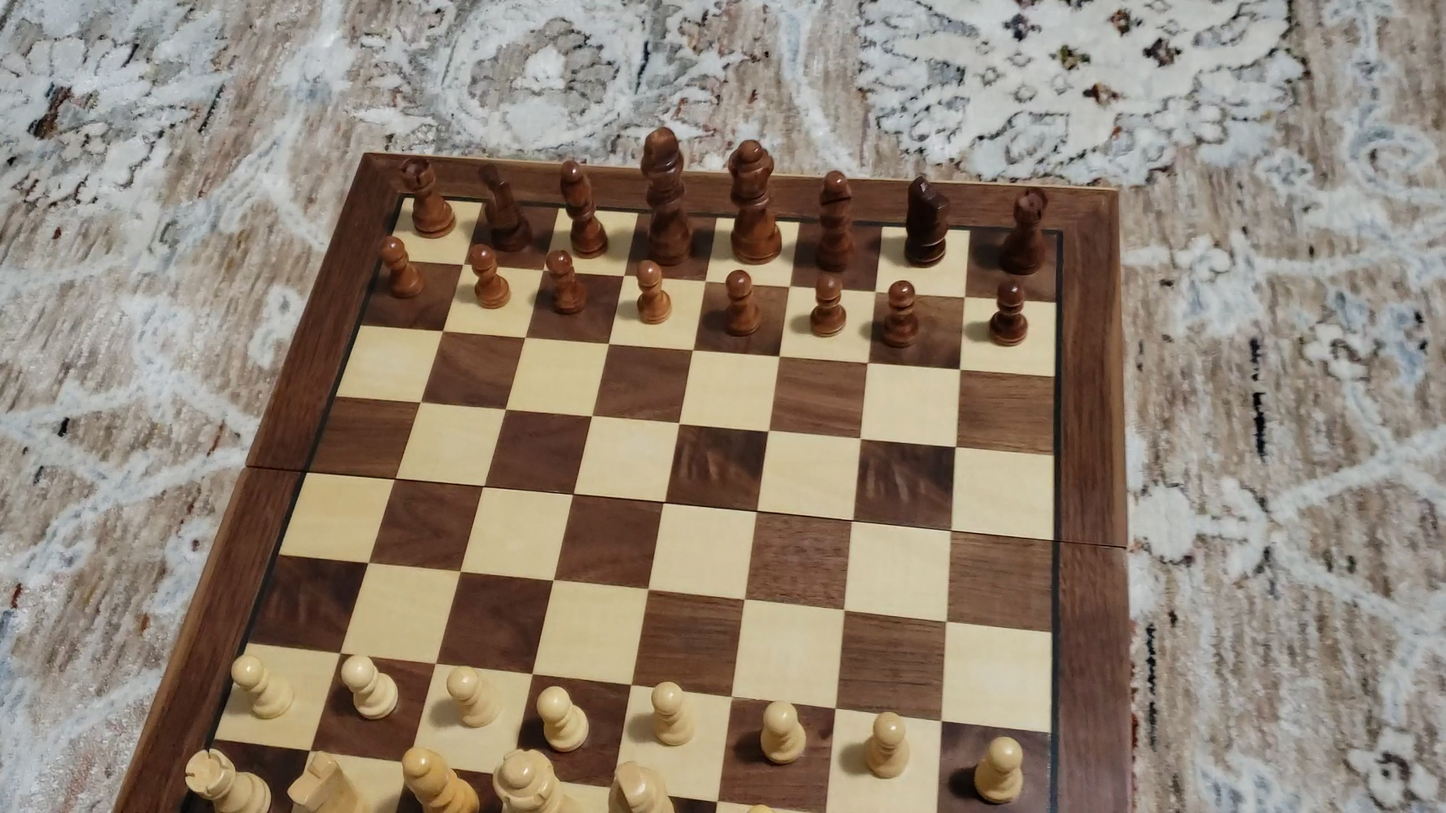black-bishop: (558, 156, 611, 259), (814, 167, 855, 277)
black-king: (639, 124, 692, 266)
black-knight: (478, 159, 533, 253), (902, 169, 951, 267)
black-pawn: (377, 233, 425, 301), (879, 277, 920, 351), (545, 246, 586, 317), (988, 278, 1029, 348), (633, 257, 673, 327), (721, 266, 759, 339), (809, 269, 848, 340), (469, 242, 509, 311)
black-queen: (726, 136, 779, 264)
black-rook: (997, 186, 1049, 276), (399, 155, 454, 238)
white-bishop: (398, 744, 478, 812)
white-king: (602, 757, 675, 813)
white-knight: (284, 748, 367, 812)
white-pawn: (225, 652, 299, 723), (967, 732, 1033, 810), (334, 651, 404, 723), (859, 707, 918, 783), (754, 697, 812, 770), (534, 683, 593, 754), (441, 662, 501, 731), (645, 677, 700, 750)
white-queen: (492, 747, 564, 812)
white-rook: (184, 747, 273, 812)
